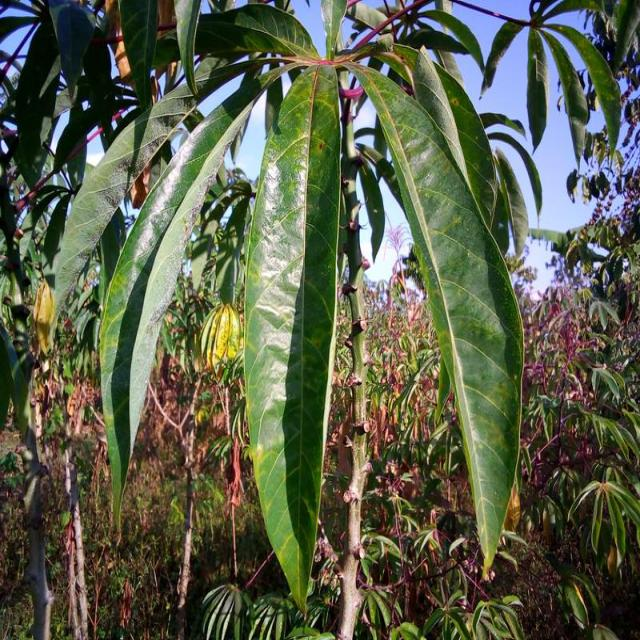cassava leaf: (350, 38, 526, 576), (99, 63, 268, 533), (243, 61, 343, 615)
